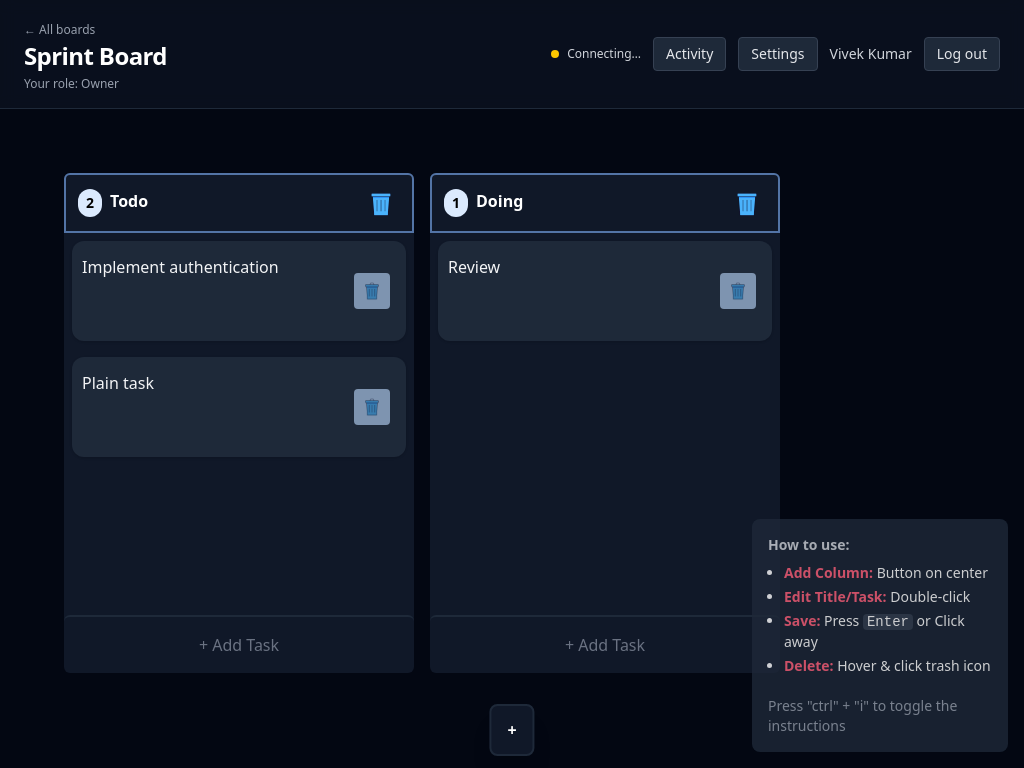
Test: editing › shows a pending state and blocks double submission
expect the text "Review" is shown: met, box [448,256,500,278]
Click the text "Implement authentication" at (180, 267), box [82,256,279,278]
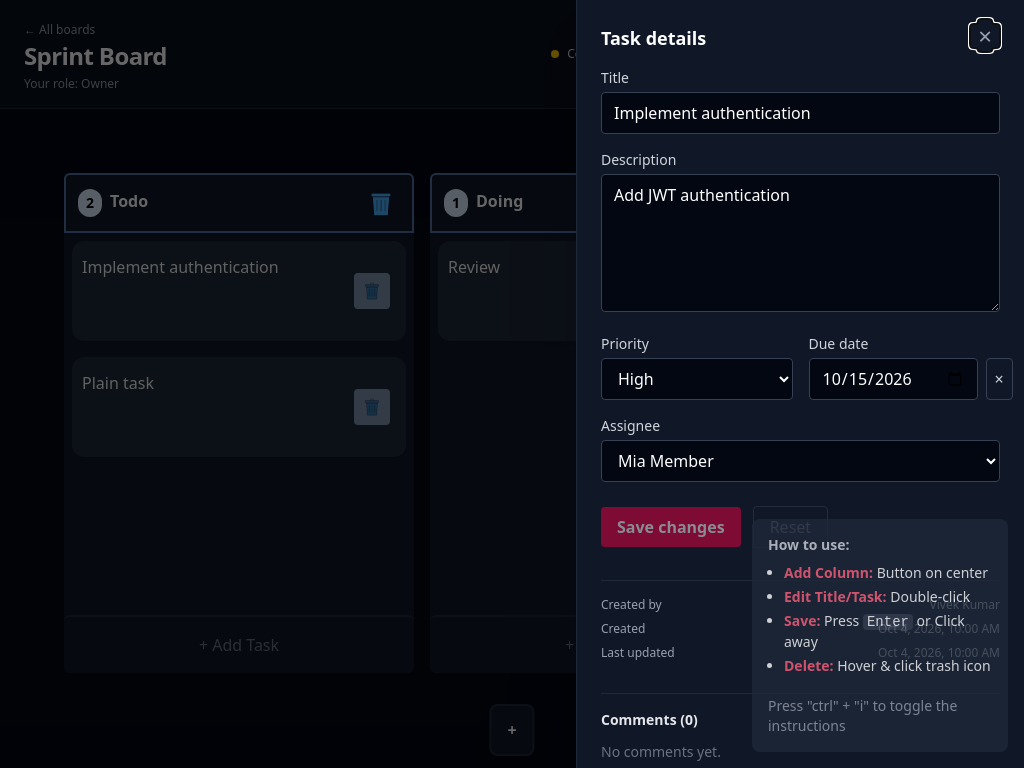
Type "!" into the field labelled "Title" at (800, 113), box [601,92,1000,134]
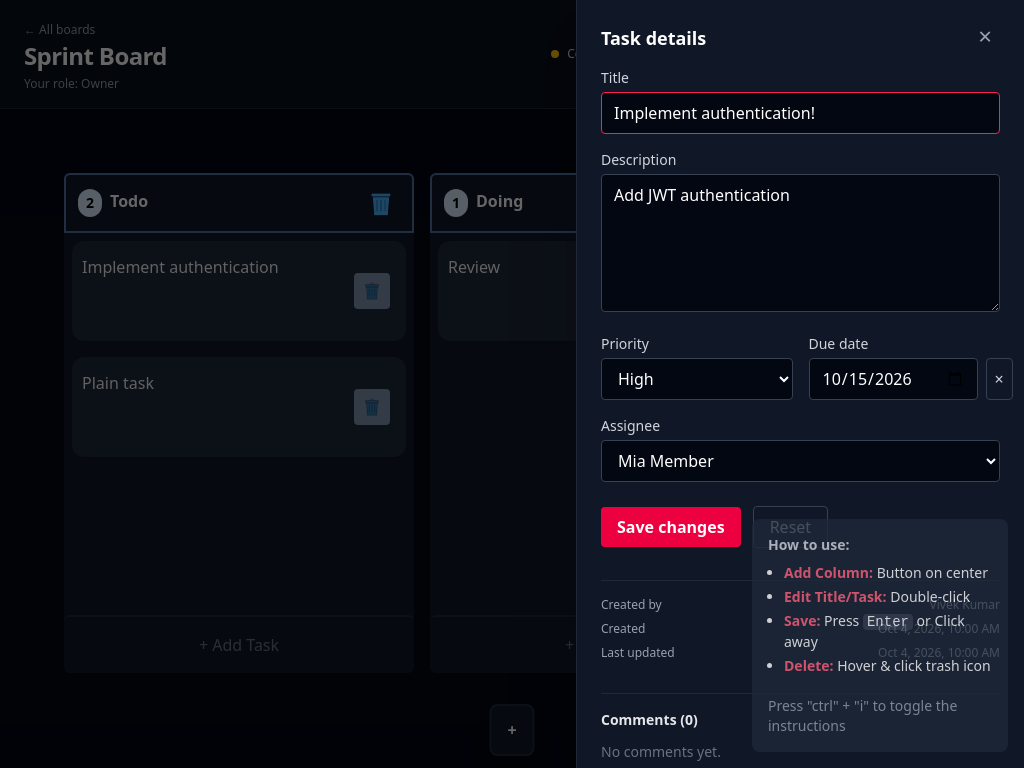
Click the button "Save changes" at (671, 527), box [601,507,741,547]
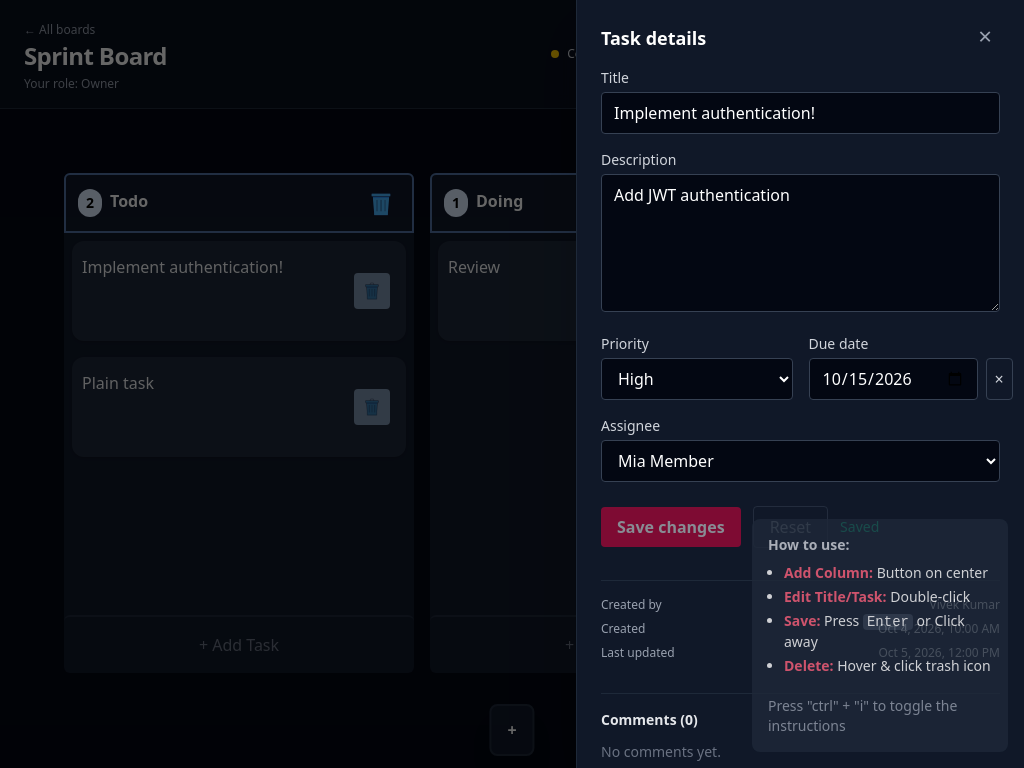
expect the button named "Saving…" is disabled: met, box [601,507,741,547]
expect the text "Saved" is shown: met, box [840,517,879,537]
